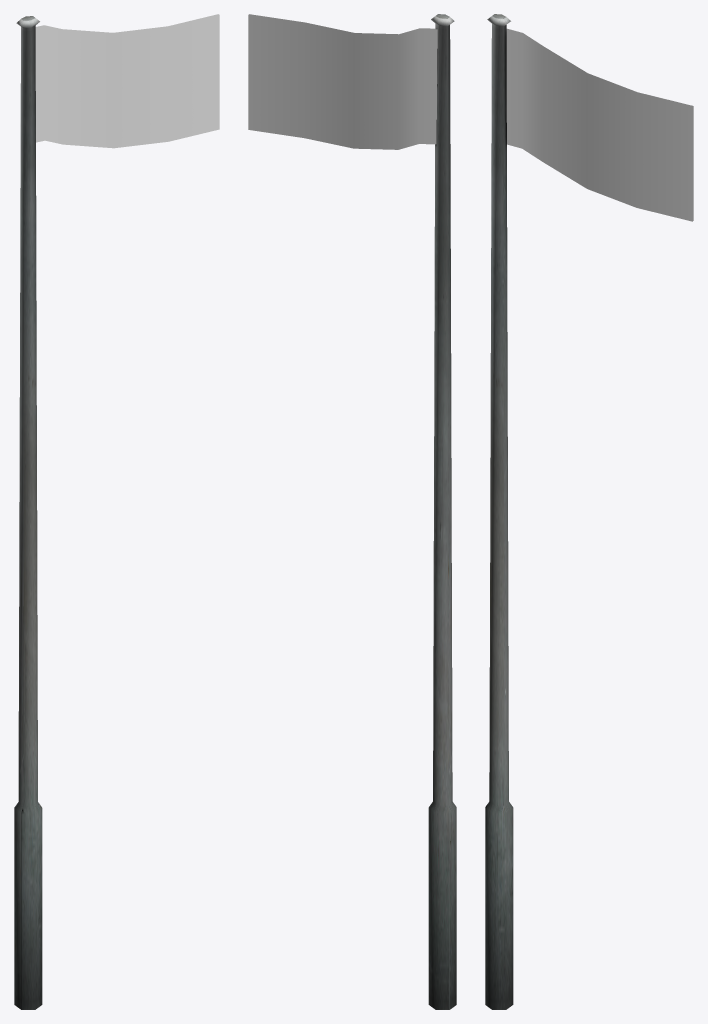
The model's file is PFB-Racing-Track-Assets-01-Flag.fbx.
3 renders of one model, left to right at view 1: azimuth 30°, elevation 25°; view 2: azimuth 150°, elevation 25°; view 3: azimuth 330°, elevation 25°, orthographic.
Visible parts, largest first — view 1: Flag; view 2: Flag; view 3: Flag.
Boxes of the visible parts, bbox=[...] form: Flag: bbox=[14, 14, 219, 1009]; Flag: bbox=[248, 14, 456, 1009]; Flag: bbox=[485, 14, 693, 1009].
Bounding box in the file's own units: 29.06 × 135 × 3.46.
